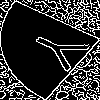Y: (24, 25, 100, 78)
